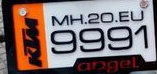1: (134, 25, 151, 50)
2: (87, 12, 101, 24)
9: (50, 28, 79, 55), (107, 25, 134, 51), (79, 27, 106, 52)
E: (118, 11, 131, 22)
H: (69, 13, 85, 25)
M: (51, 14, 70, 26)
O: (100, 12, 114, 23)
U: (130, 11, 145, 22)
